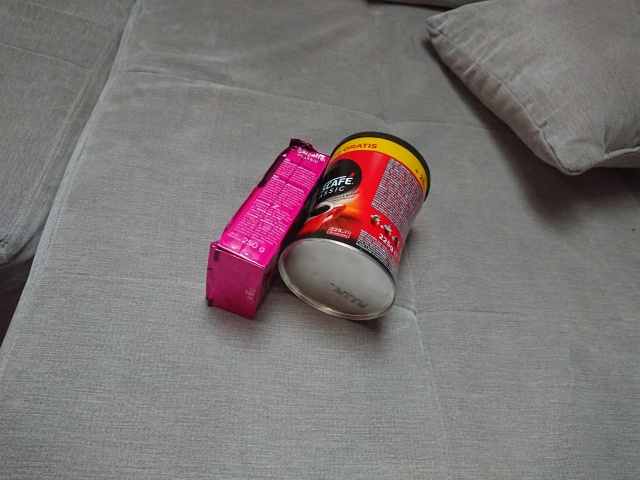Barcaffe Classic Original 225g: (202, 135, 335, 323)
Nescafe Classic 225g: (275, 129, 434, 324)
